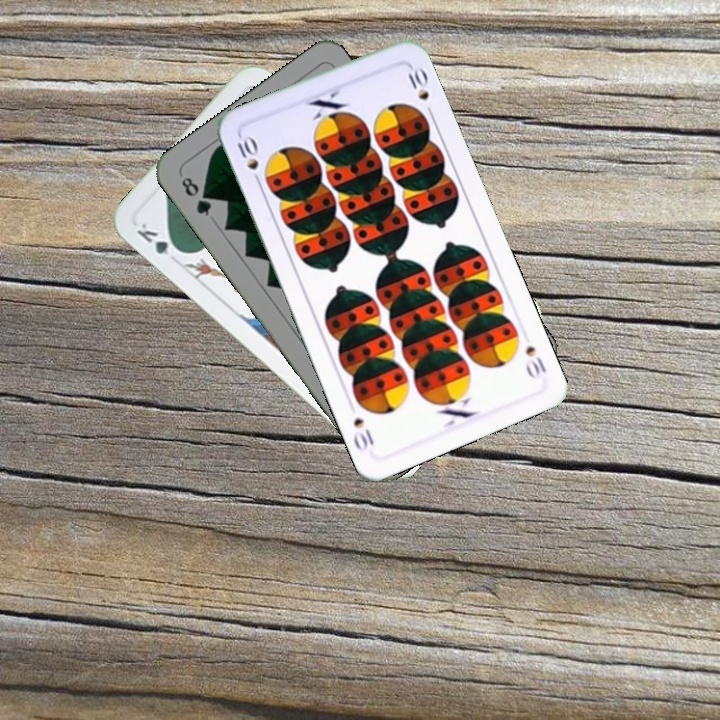G8: (177, 172, 215, 219)
GK: (132, 219, 185, 258)
S10: (233, 132, 264, 188), (521, 342, 549, 376)
